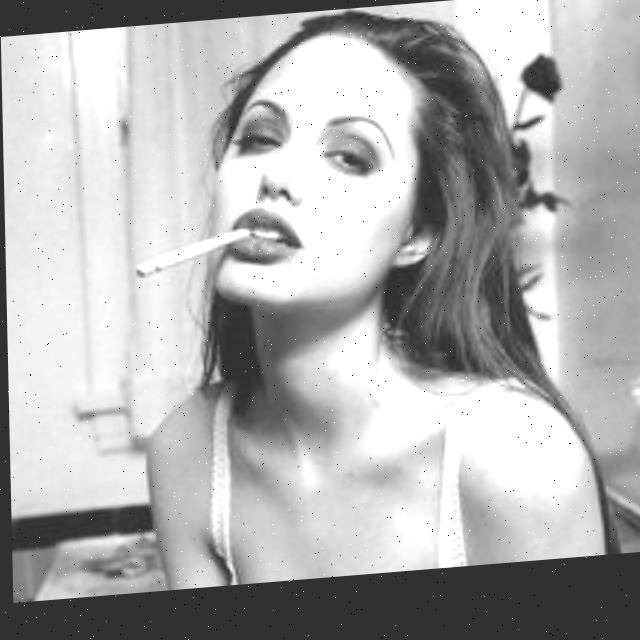cigarette: (134, 229, 248, 283)
